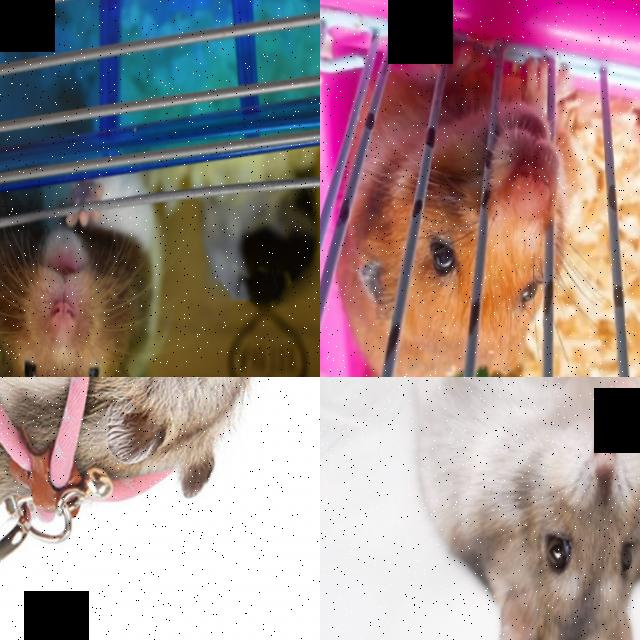hamster: (326, 44, 579, 377), (410, 377, 640, 640), (0, 377, 278, 532), (0, 169, 169, 377)
